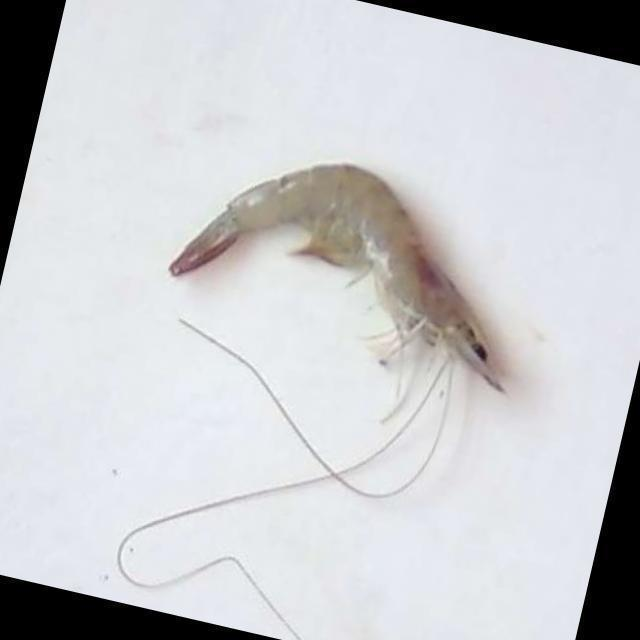shrimp: (170, 164, 503, 391)
